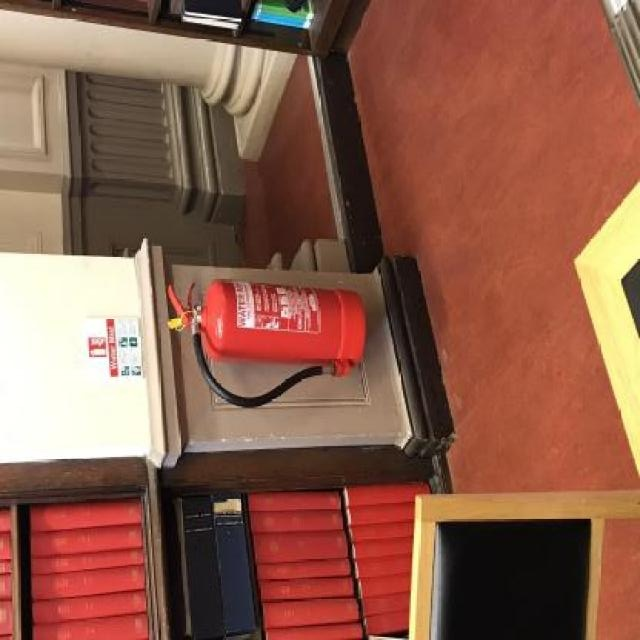fire extinguisher: (167, 281, 367, 411)
